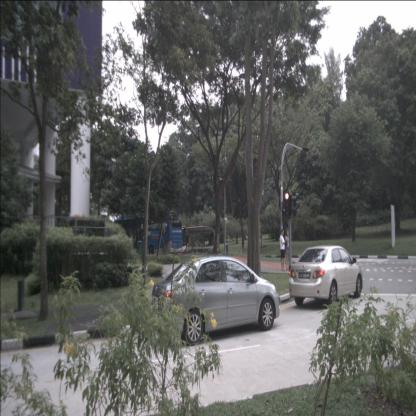human-pedestrian-adult: (284, 229, 292, 271), (280, 229, 286, 271)
vehicle-bus-rigid: (110, 212, 184, 258)
vehicle-car: (151, 256, 280, 346), (288, 246, 364, 308)
